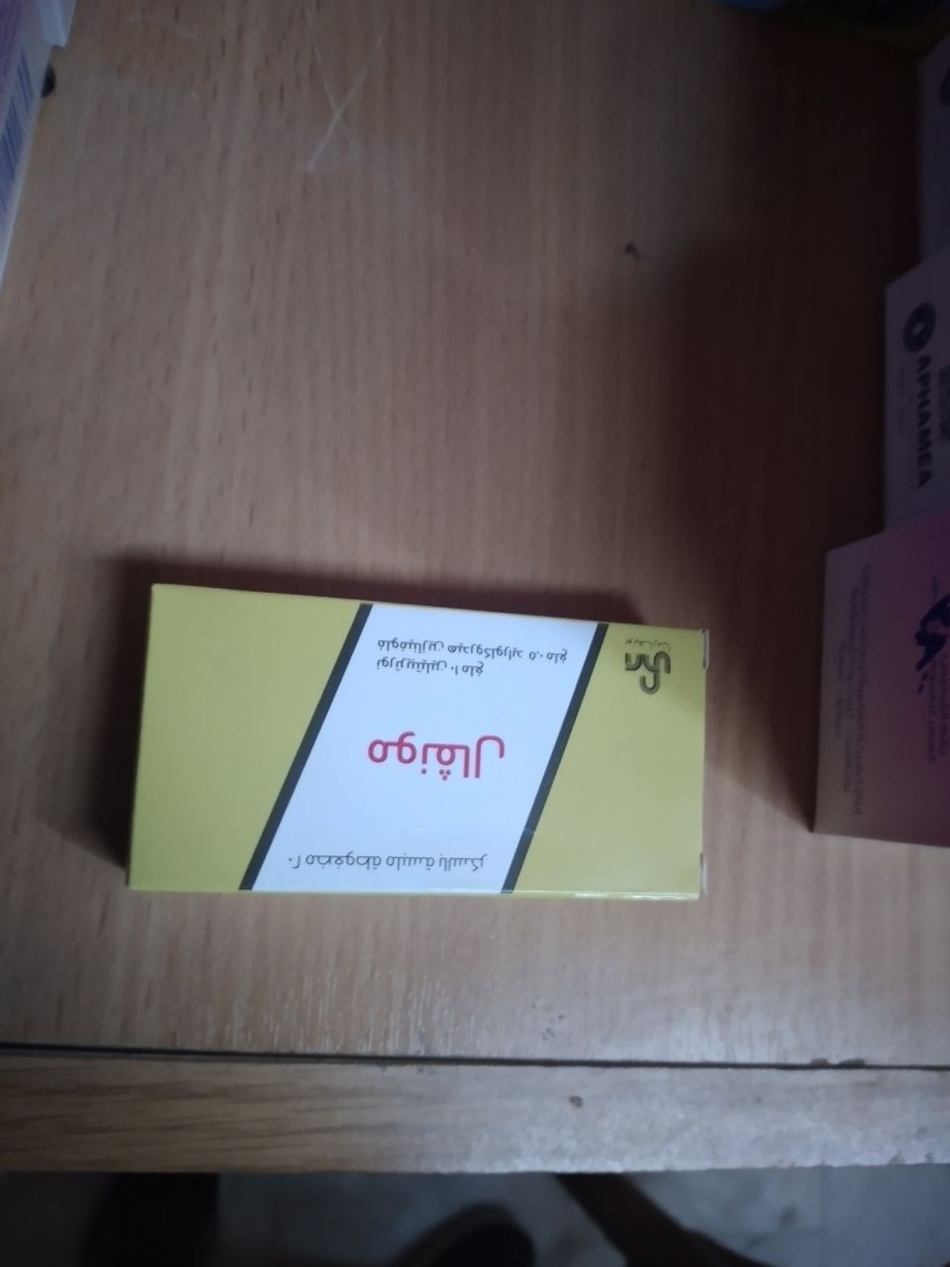Medicine: (115, 561, 729, 934)
